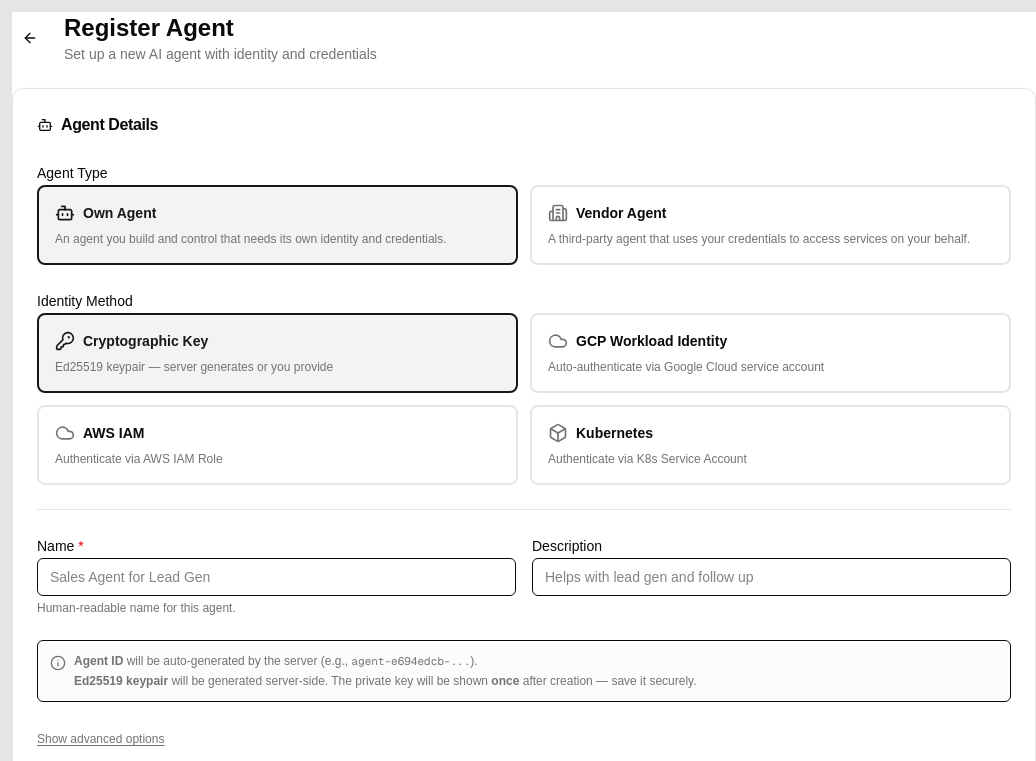
Test: AgentCreatePage › IdentityMethodSelector › shows AWS IAM role ARN input when AWS is selected
Click the text "AWS IAM" at (114, 433), box x1=83 y1=423 x2=144 y2=443
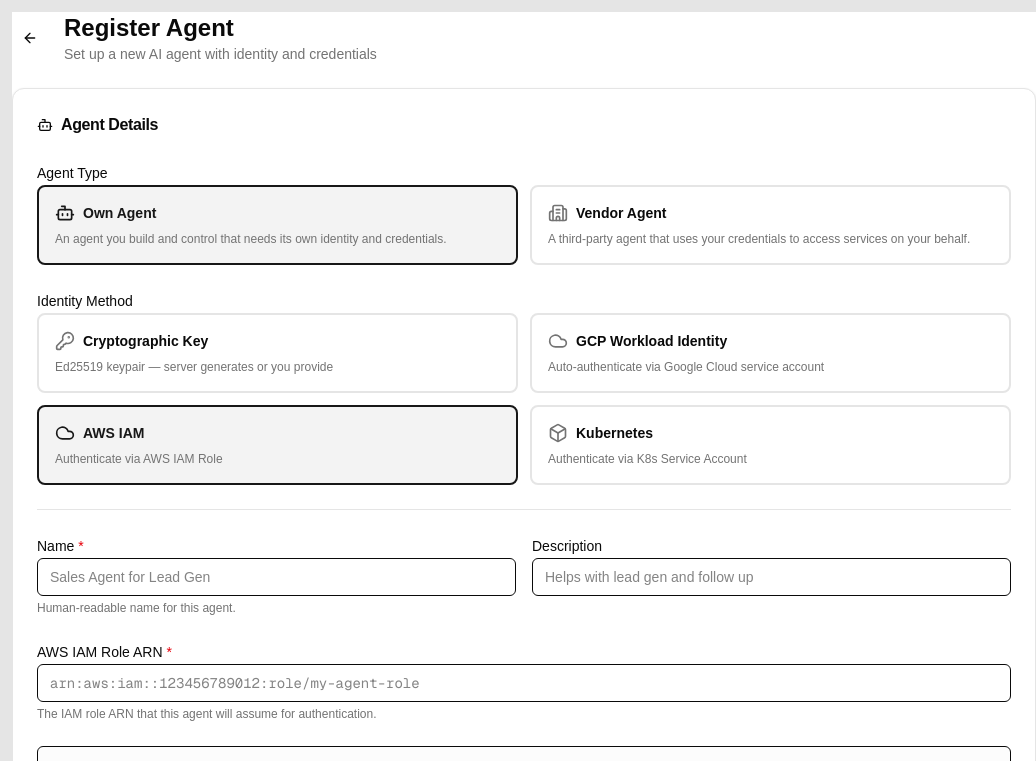
expect the field with placeholder "arn:aws:iam::123456789012:role/my-agent-role" is shown: met, box x1=37 y1=664 x2=1011 y2=702
